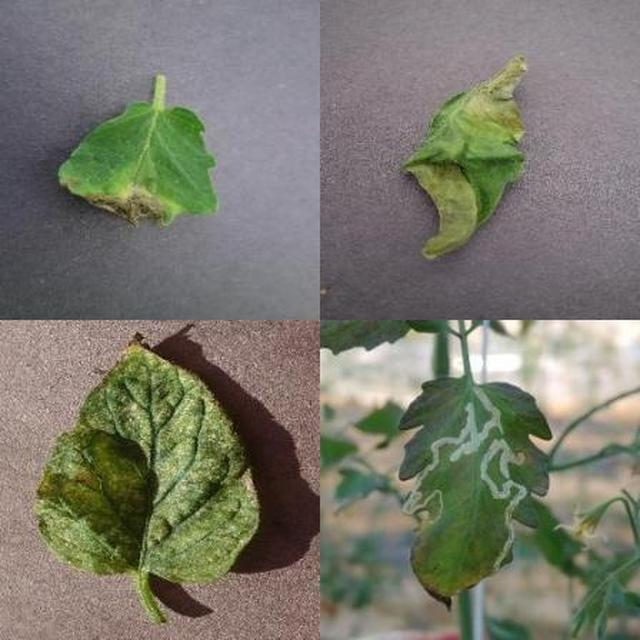Late Blight Leaf: (182, 185, 640, 640)
